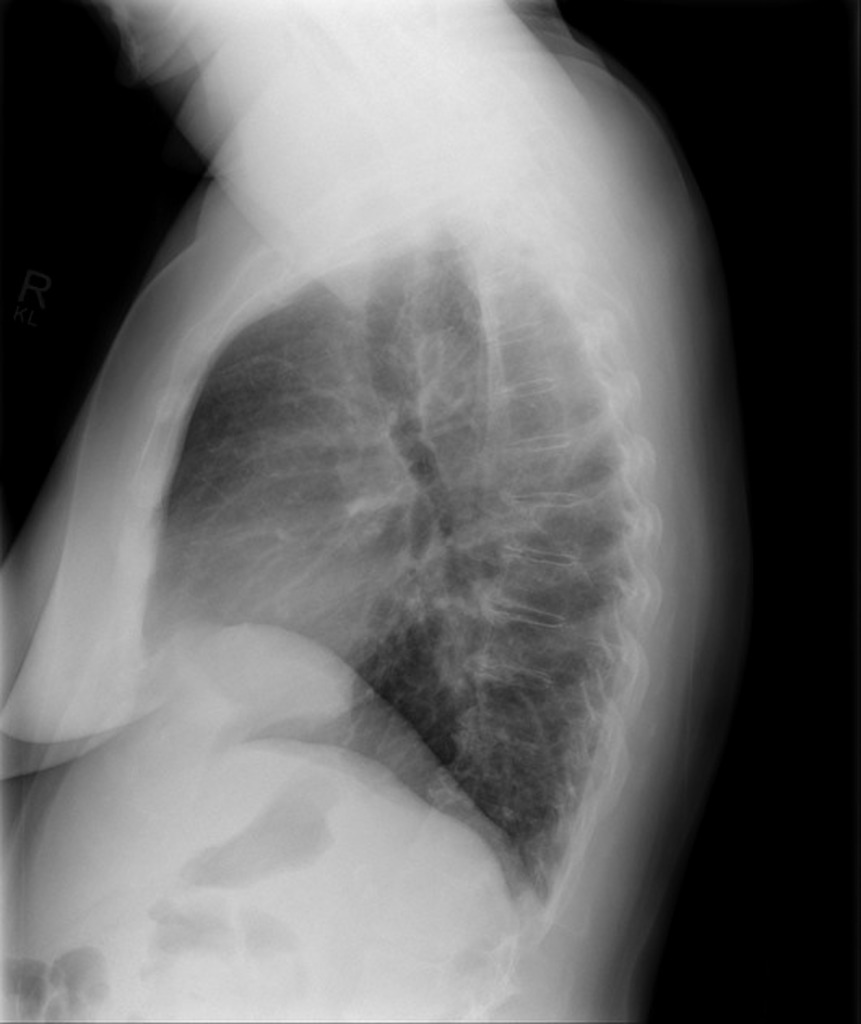cancer: (256, 268, 619, 738)
